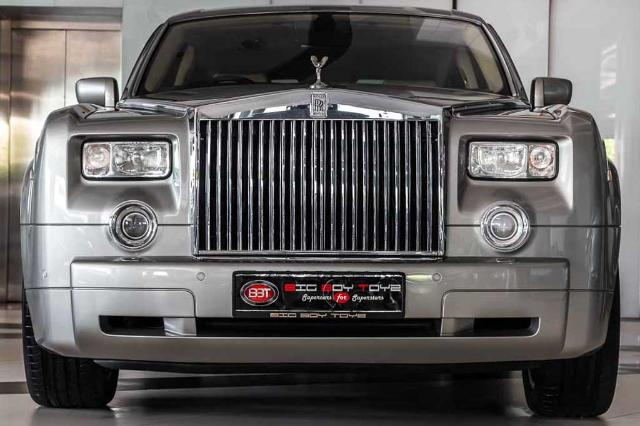rolls-royce: (20, 5, 622, 417)
